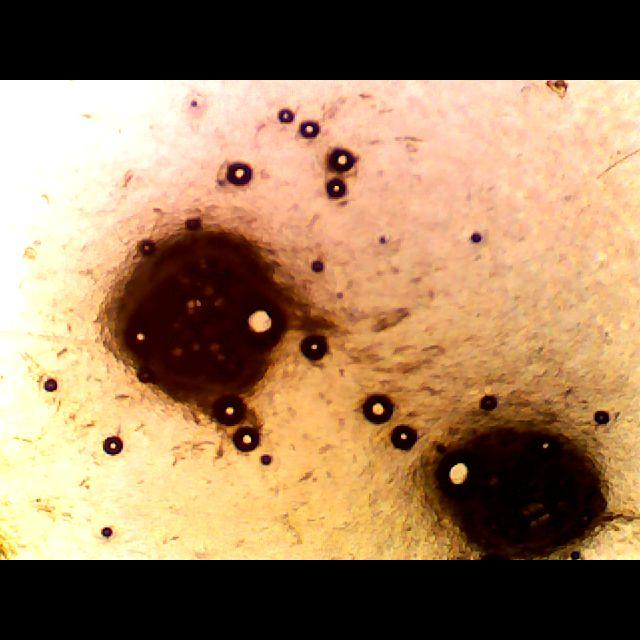microbeads: (75, 209, 337, 436), (422, 388, 616, 558)
